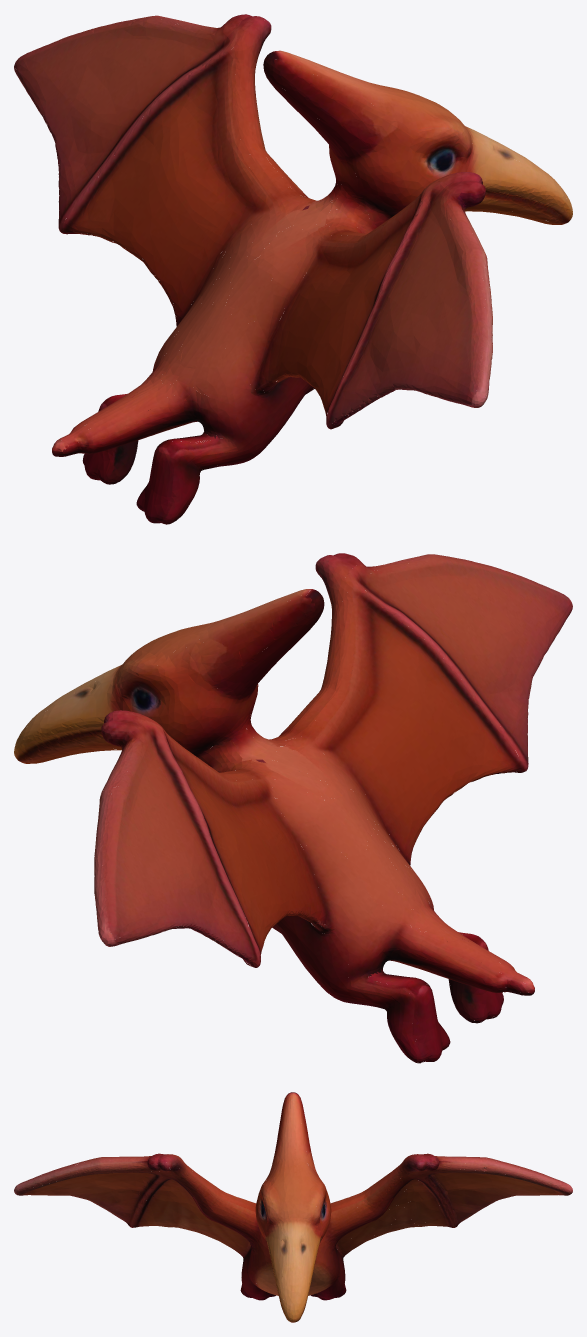
Rendered from pterodactyl.glb.
3 views of the same model, one above another, from view 1: azimuth 30°, elevation 25°; view 2: azimuth 150°, elevation 25°; view 3: azimuth 270°, elevation 25° (orthographic). The views are drawn at different scales.
Parts seen in each view (by area): view 1: tmpoe2gew12.ply; view 2: tmpoe2gew12.ply; view 3: tmpoe2gew12.ply.
Part boxes in pixels (box(x1,y1,x2,y2)): tmpoe2gew12.ply: box(14, 14, 572, 524); tmpoe2gew12.ply: box(14, 553, 572, 1063); tmpoe2gew12.ply: box(14, 1092, 572, 1322).
Bounding box in the file's own units: 1.29 × 0.9788 × 1.99.
1 material, 1 textured.
